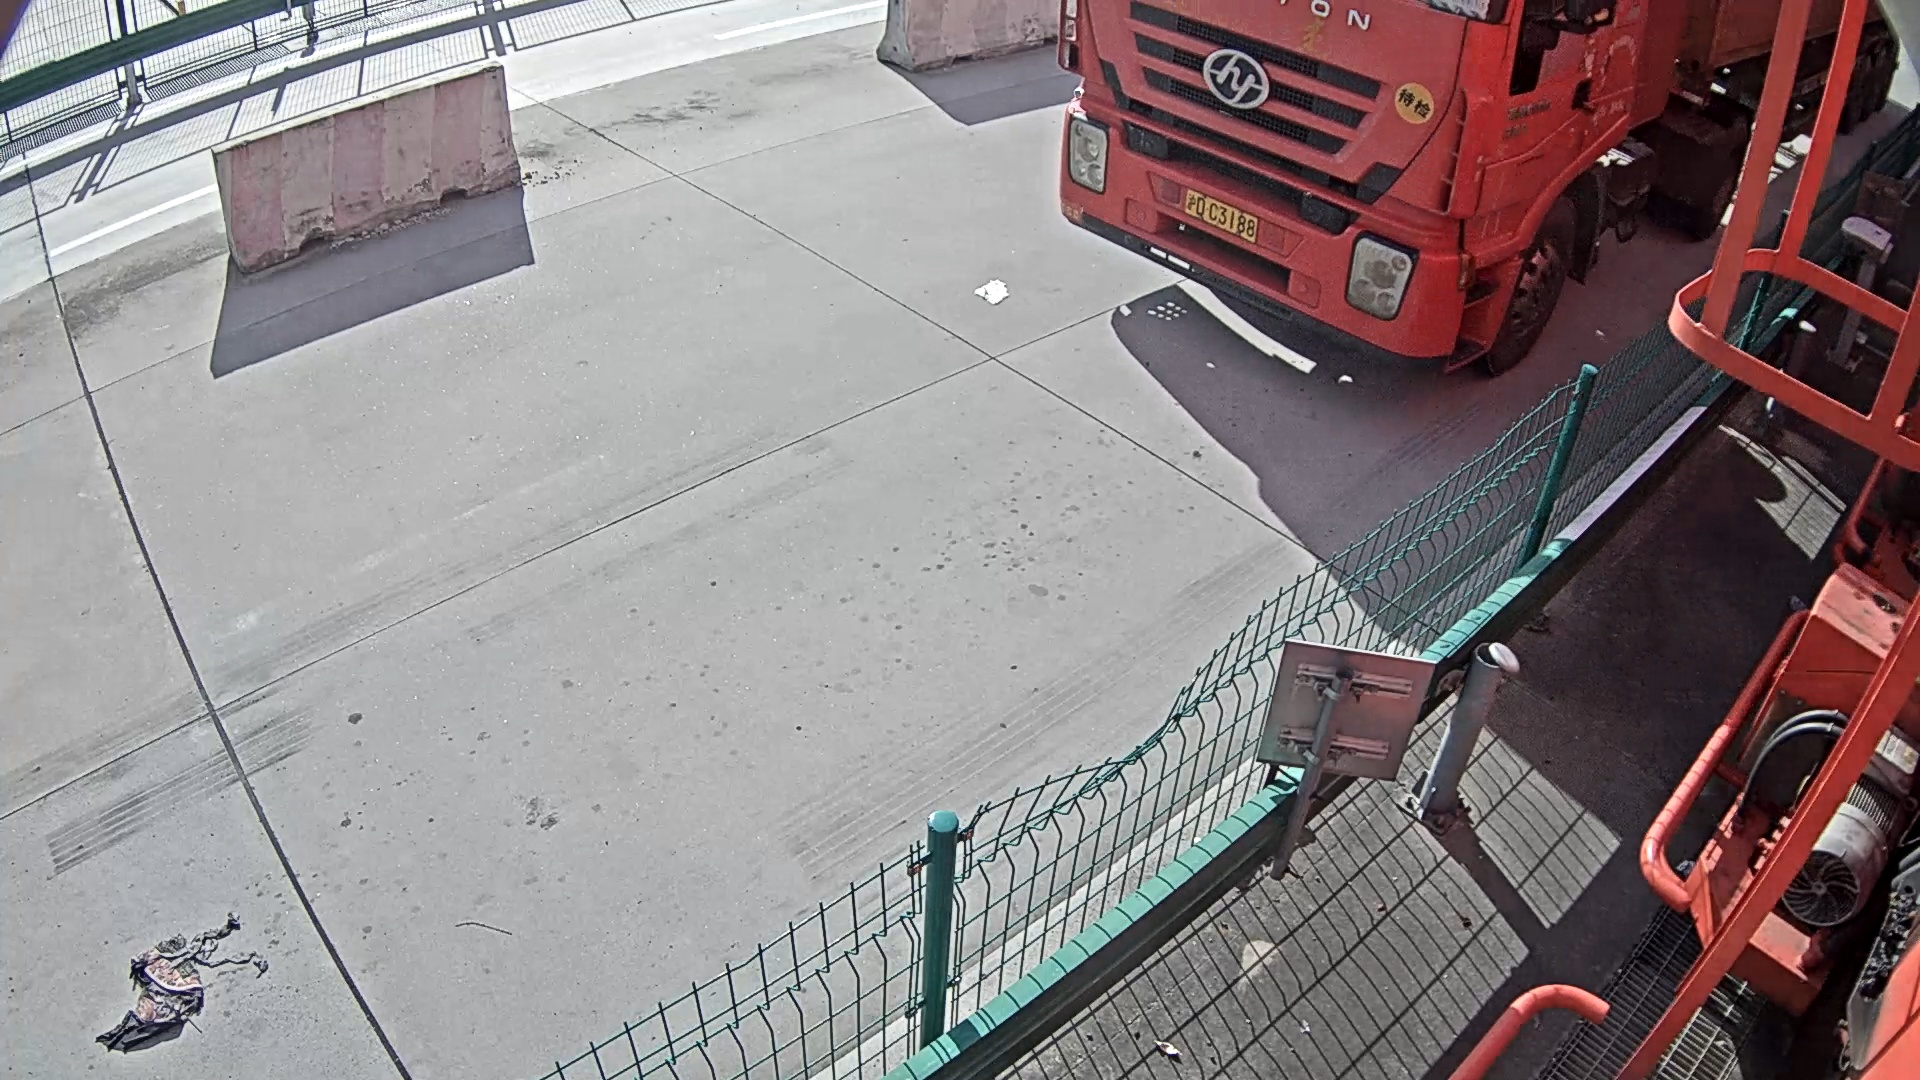head: (1057, 1, 1673, 358)
plate: (1181, 181, 1263, 245)
